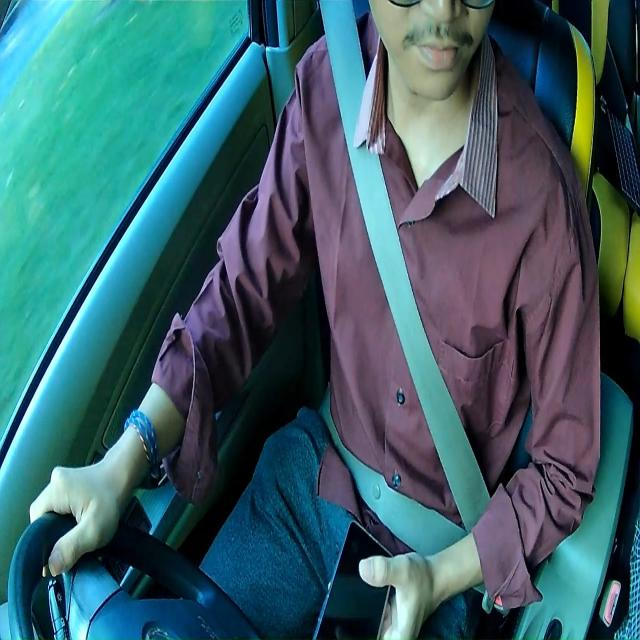phone: (315, 522, 395, 640)
